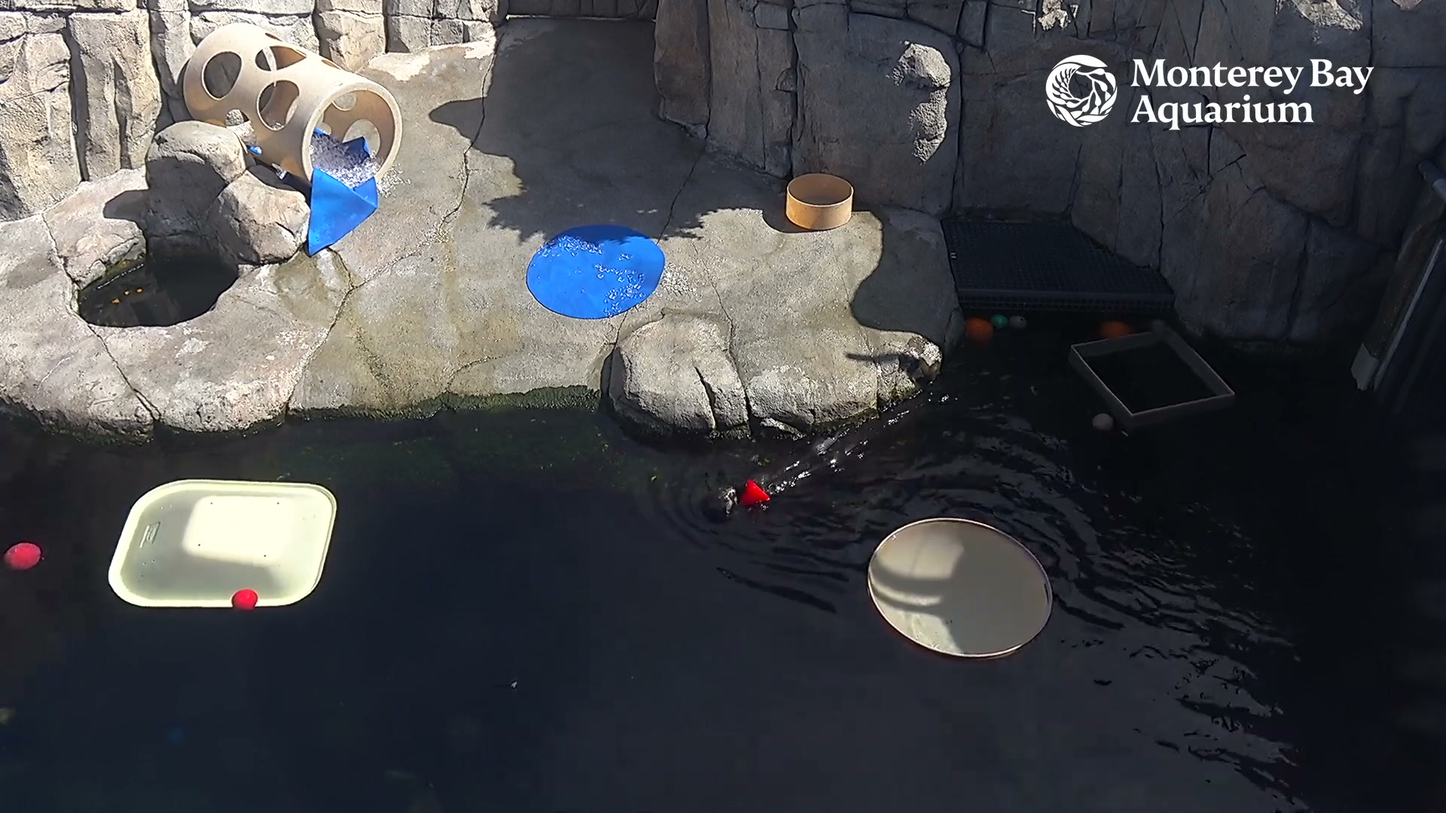Southern Sea Otter: (658, 425, 894, 524)
